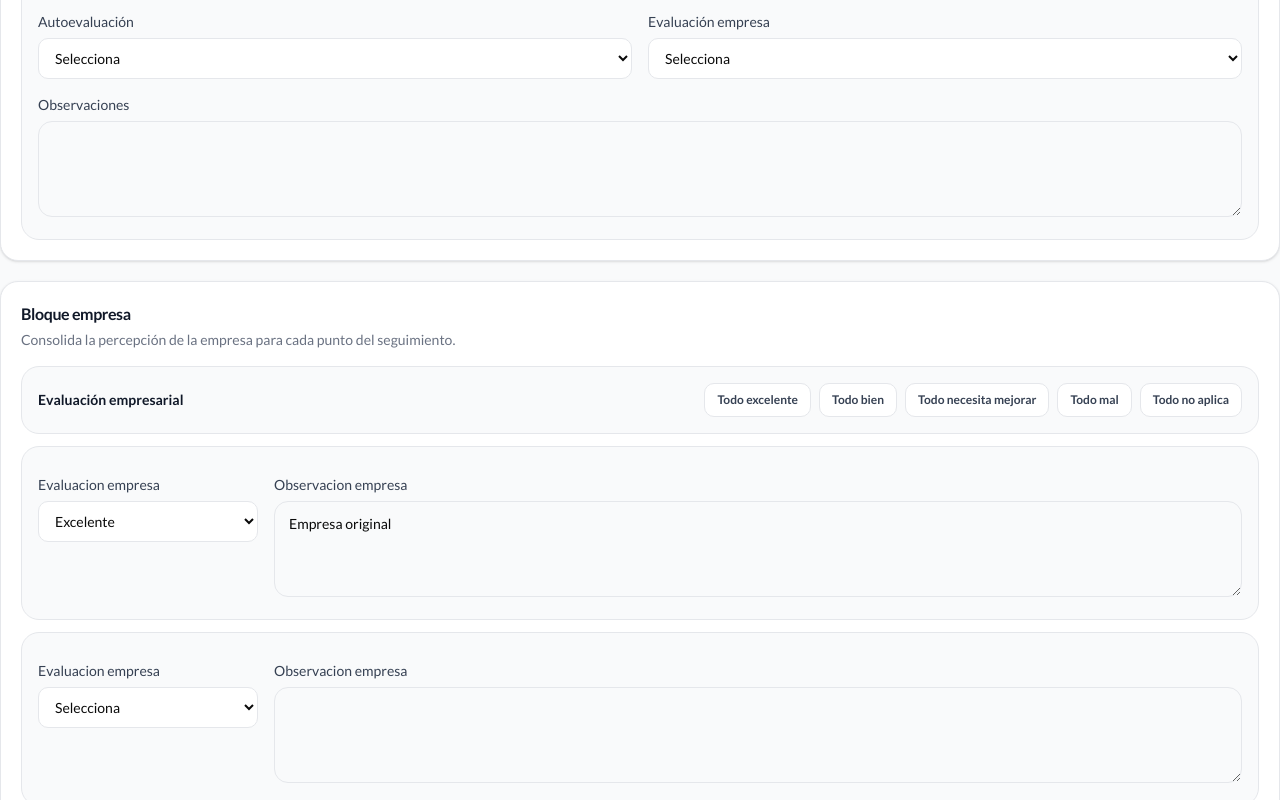
SeguimientosFollowupStageEditor › applies a bulk value to all evaluacion empresarial fields
This screenshot has width=1280, height=800.
(page scrolled)
Click the button with test id "seguimientos-followup-bulk-empresa_eval-no-aplica" at (1191, 400), box [1140,383,1242,417]
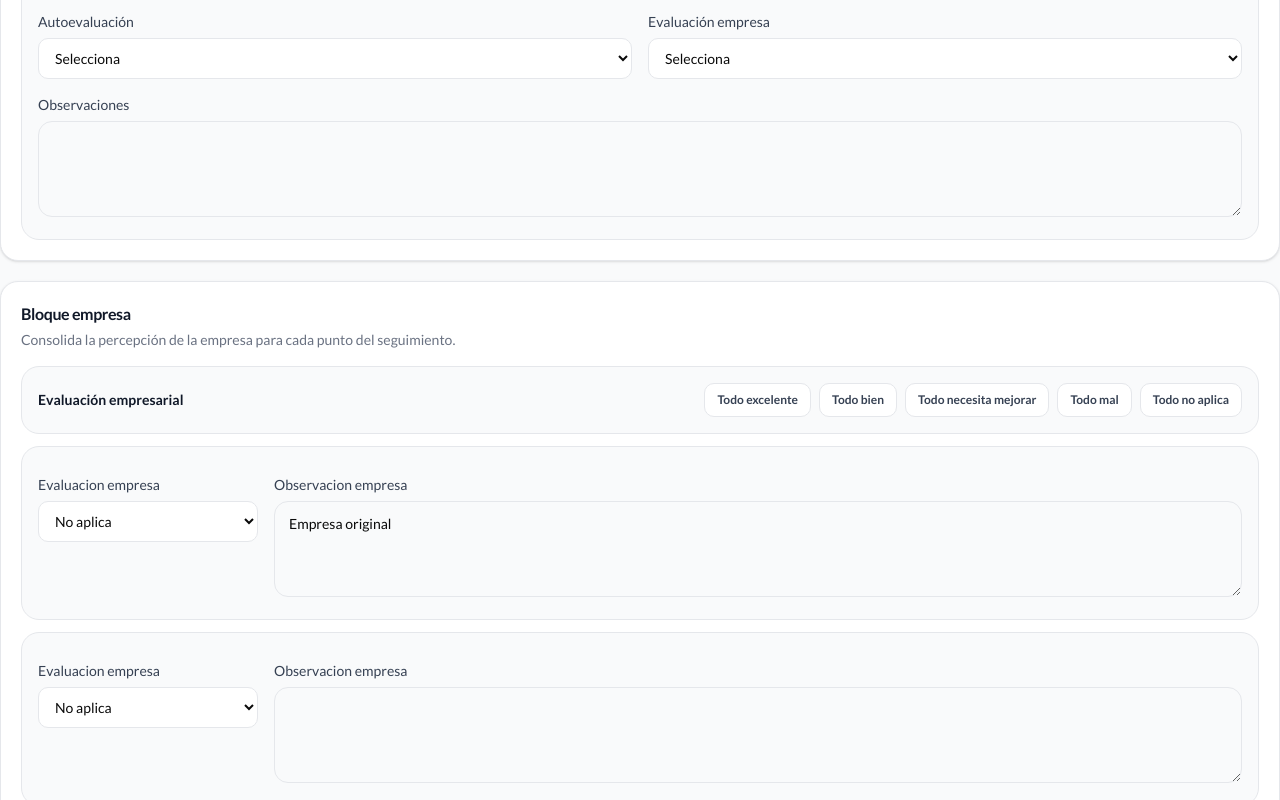
Expected: the text box with id "empresa_observacion" holds "Empresa original", [274,501,1242,597]
Expected: the dropdown with id "empresa_eval" shows "No aplica", [38,501,258,542]
